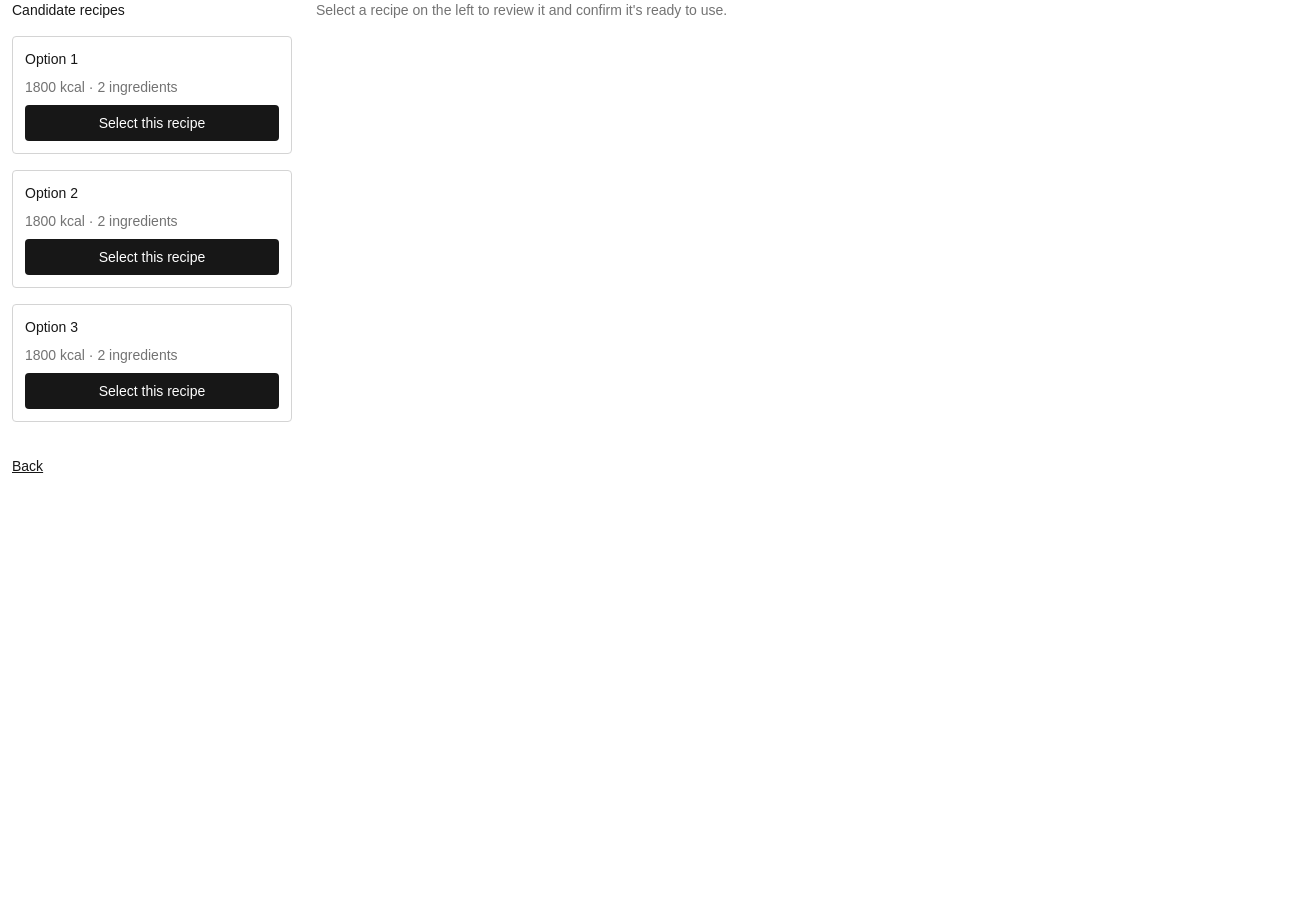
Test: Step5GenerateReview › has no separate volume/IDDSI confirmation checkboxes — a valid measurement is the confirmation
This screenshot has width=1292, height=900.
Expected: the text "Option 1" is shown, [25,51,78,67]
Click the button "Select this recipe" below "Option 1" at {"x": 152, "y": 123}, box [25,105,279,141]
(page scrolled)
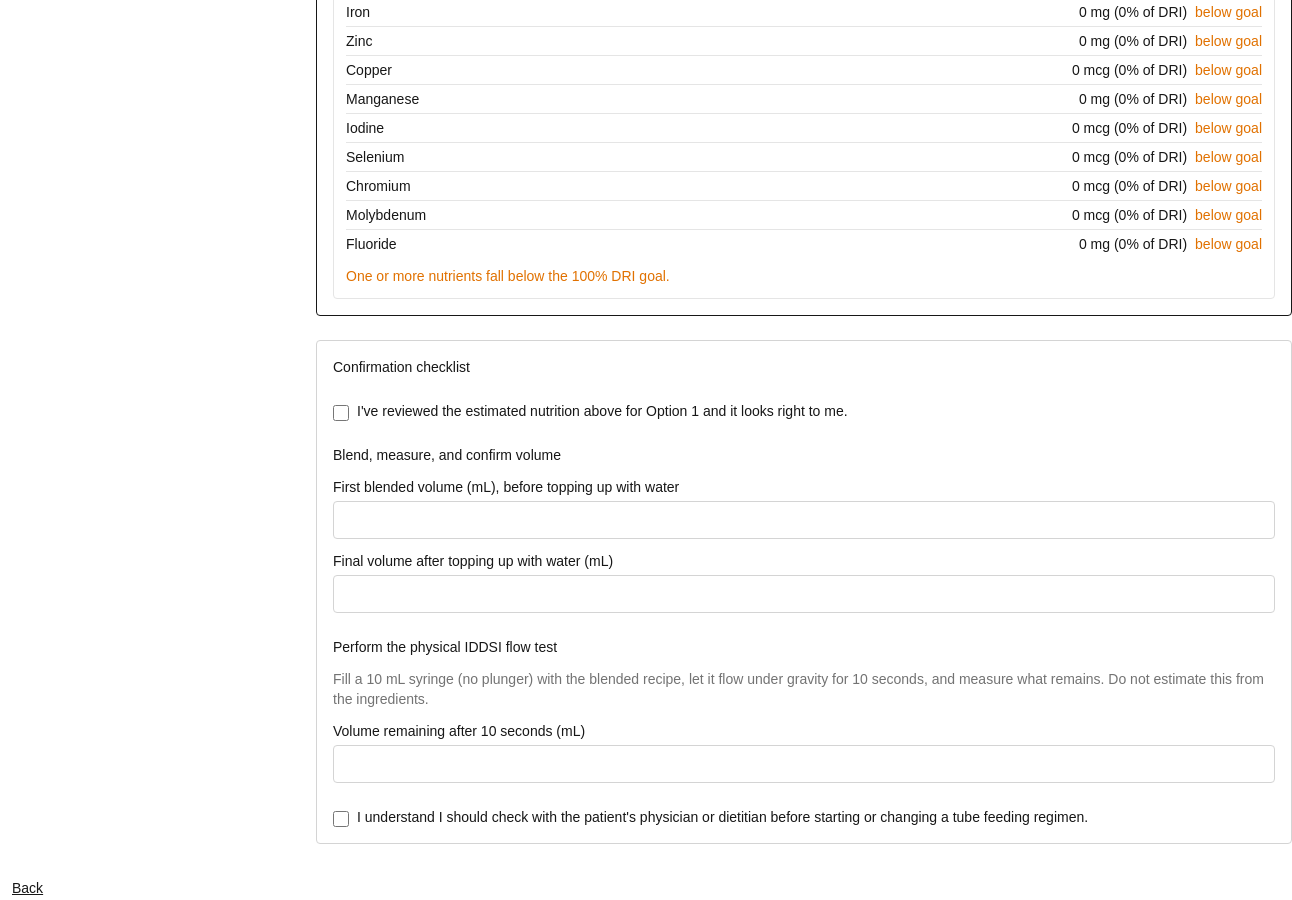
Expected: the number field labelled "Final volume after topping up with water (mL)" is shown, [333,575,1275,613]
Expected: the number field labelled "Volume remaining after 10 seconds (mL)" is shown, [333,745,1275,783]
